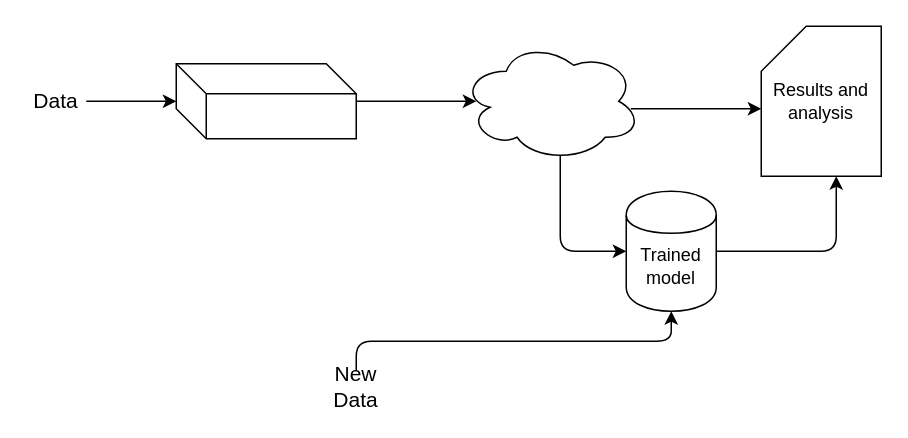
The diagram is 908 pixels wide and 438 high, and some of its shapes have lost their labels. The shapes that lost their labels are listed below. From the top down, each one's box as (x1, y1, x2, y2) in pixels, then its label:
(175, 62, 356, 139): Preprocessing Pipeline
(460, 40, 641, 161): ML Algorithm
